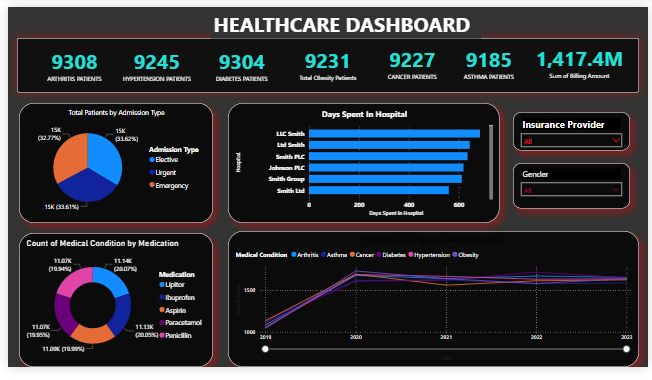

Layout of this report page (visuals, bound fields, positions):
{"tool":"powerbi","page":{"name":"Report Page","canvas":[1280,720],"ordinal":1},"visuals":[{"type":"lineChart","fields":{"Category":["healthcare_dataset.Year"],"Y":["Measures (3).Total Patients"],"Series":["healthcare_dataset.Medical Condition"]},"box":[439.8,448.7,822.3,271.7],"z":0},{"type":"basicShape","box":[17.9,62.6,1244.2,109.1],"z":1000},{"type":"slicer","fields":{"Values":["healthcare_dataset.Insurance Provider"]},"box":[1010.1,210.9,234.2,76.9],"z":2000},{"type":"pieChart","fields":{"Y":["Measures (3).Total Patients"],"Category":["healthcare_dataset.Admission Type"]},"box":[21.5,191.3,387.9,239.6],"z":3000},{"type":"clusteredBarChart","title":"Days Spent In Hospital","fields":{"Category":["healthcare_dataset.Hospital"],"Y":["healthcare_dataset.Days Difference"]},"box":[439.8,191.3,543.5,239.6],"z":4000},{"type":"donutChart","fields":{"Category":["healthcare_dataset.Medication"],"Y":["healthcare_dataset.Medical Condition"]},"box":[21.5,452.3,387.9,268.2],"z":5000},{"type":"card","fields":{"Values":["Measures (3).Total Cancer Patients"]},"box":[695.4,55.4,225.3,110.8],"z":6000},{"type":"card","fields":{"Values":["Measures (3).Total Diabetes Patients"]},"box":[370.1,55.4,194.9,119.8],"z":7000},{"type":"card","fields":{"Values":["Measures (3).Total Hypertension Patients"]},"box":[185.9,62.6,223.5,107.3],"z":8000},{"type":"card","fields":{"Values":["Measures (3).Total Arthritis Patients"]},"box":[21.5,76.9,221.7,80.4],"z":9000},{"type":"card","fields":{"Values":["Measures (3).Total Asthma Patients"]},"box":[850.9,73.3,223.5,76.9],"z":10000},{"type":"card","fields":{"Values":["Measures (3).Total Obesity Patients"]},"box":[527.4,55.4,223.5,114.4],"z":11000},{"type":"card","fields":{"Values":["healthcare_dataset.Billing Amount"]},"box":[1006.5,60.8,273.5,101.9],"z":12000},{"type":"textbox","title":"HEALTHCARE DASHBOARD","box":[406.7,5,540,56.7],"z":13000},{"type":"slicer","fields":{"Values":["healthcare_dataset.Gender"]},"box":[1010.1,311.1,234.2,91.2],"z":14000}]}

Visuals, with their boxes on the page's 1280x720 design canvas (x1, y1, x2, y2). These are canvas units, not pixel positions in the 652x380 screenshot, which may show the page scaled, cropped or inside an application window:
lineChart - healthcare_dataset.Year x Measures (3).Total Patients: <bbox>440, 449, 1262, 720</bbox>
basicShape: <bbox>18, 63, 1262, 172</bbox>
slicer - healthcare_dataset.Insurance Provider: <bbox>1010, 211, 1244, 288</bbox>
pieChart - Measures (3).Total Patients x healthcare_dataset.Admission Type: <bbox>22, 191, 409, 431</bbox>
"Days Spent In Hospital" clusteredBarChart: <bbox>440, 191, 983, 431</bbox>
donutChart - healthcare_dataset.Medication x healthcare_dataset.Medical Condition: <bbox>22, 452, 409, 720</bbox>
card - Measures (3).Total Cancer Patients: <bbox>695, 55, 921, 166</bbox>
card - Measures (3).Total Diabetes Patients: <bbox>370, 55, 565, 175</bbox>
card - Measures (3).Total Hypertension Patients: <bbox>186, 63, 409, 170</bbox>
card - Measures (3).Total Arthritis Patients: <bbox>22, 77, 243, 157</bbox>
card - Measures (3).Total Asthma Patients: <bbox>851, 73, 1074, 150</bbox>
card - Measures (3).Total Obesity Patients: <bbox>527, 55, 751, 170</bbox>
card - healthcare_dataset.Billing Amount: <bbox>1006, 61, 1280, 163</bbox>
"HEALTHCARE DASHBOARD" textbox: <bbox>407, 5, 947, 62</bbox>
slicer - healthcare_dataset.Gender: <bbox>1010, 311, 1244, 402</bbox>
